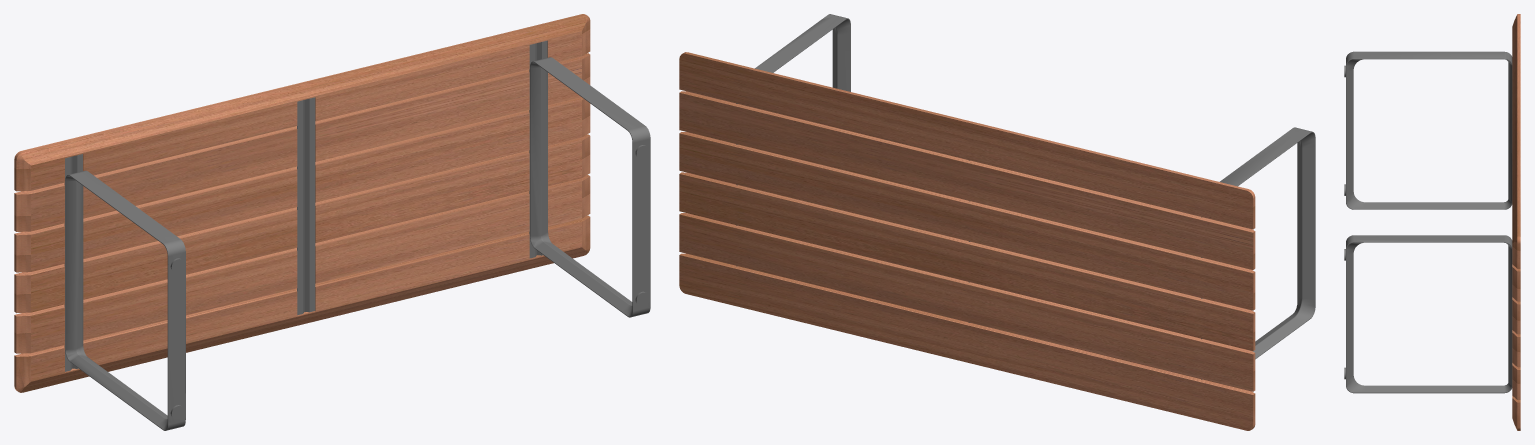
File: muuto-70-70-outdoor-table-616704064406601.optimized.glb
The picture shows the model from 3 angles, left to right: view 1: azimuth 30°, elevation 25°; view 2: azimuth 150°, elevation 25°; view 3: azimuth 270°, elevation 25°; orthographic projection. The views are drawn at different scales.
Visible parts, largest first — view 1: Mirror9[3], object_1; view 2: Mirror9[3], object_1; view 3: object_1, Mirror9[3].
Boxes of the visible parts, x1,y1,x2,y2 form: Mirror9[3]: (14, 14, 590, 392); object_1: (64, 40, 650, 430); Mirror9[3]: (679, 52, 1255, 430); object_1: (736, 14, 1315, 379); object_1: (1344, 51, 1512, 393); Mirror9[3]: (1512, 14, 1520, 430).
Size of the model in its own units: 2250 by 900 by 741.
2 materials, 1 textured.
